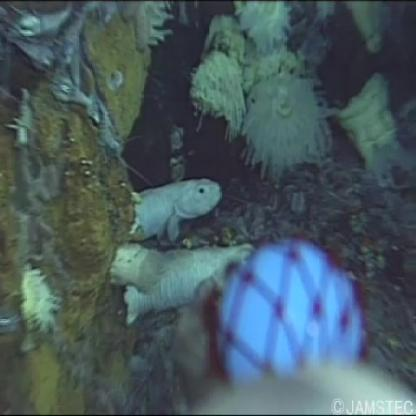Bio: (99, 174, 261, 322), (1, 13, 118, 151)
Rov: (218, 233, 406, 416)
